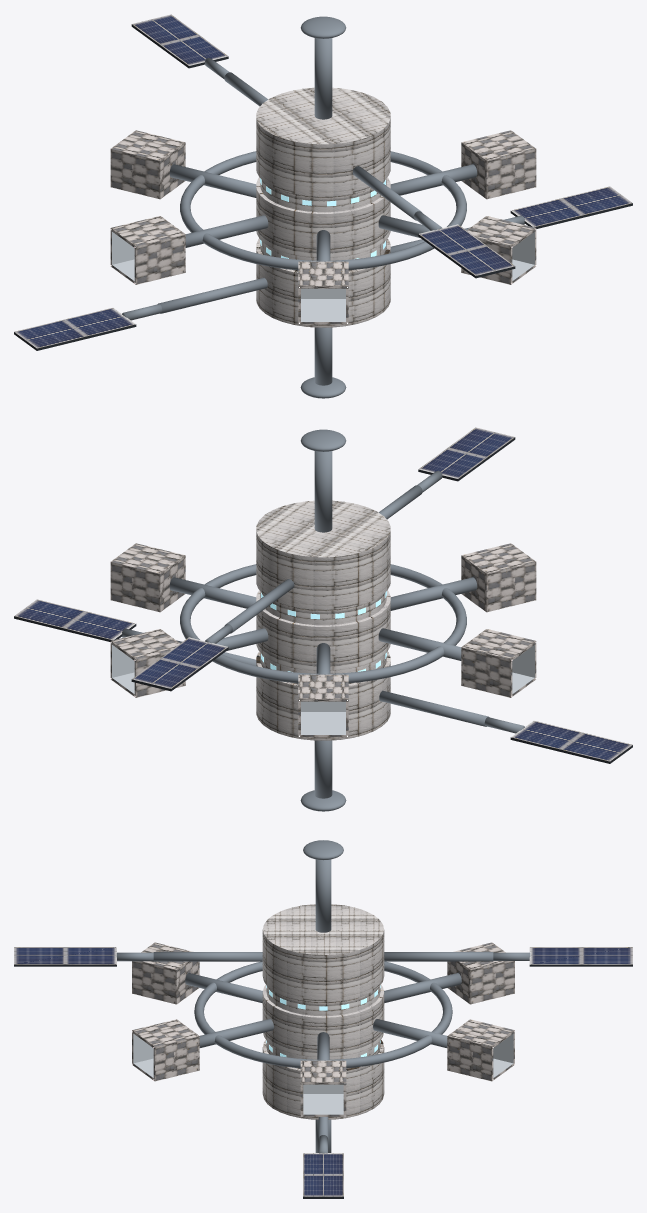
Rendered from station.glb.
3 views of the same model, one above another, from view 1: azimuth 30°, elevation 25°; view 2: azimuth 150°, elevation 25°; view 3: azimuth 270°, elevation 25° (orthographic). The views are drawn at different scales.
Parts seen in each view (by area): view 1: core_main, cargo_docks, mid_solar_panels, mid_ring, mid_dock_struts, mid_solar_booms, mid_comms_towers, mid_comms_dishes, mid_solar_arms; view 2: core_main, cargo_docks, mid_solar_panels, mid_ring, mid_dock_struts, mid_solar_booms, mid_comms_towers, mid_comms_dishes, mid_solar_arms; view 3: core_main, cargo_docks, mid_solar_panels, mid_dock_struts, mid_ring, mid_solar_booms, mid_comms_towers, mid_solar_arms, mid_comms_dishes.
Part boxes in pixels (x1,y1,x2,y2): core_main: [256, 87, 390, 327]; cargo_docks: [110, 130, 536, 324]; mid_solar_panels: [14, 14, 632, 350]; mid_ring: [180, 151, 466, 270]; mid_dock_struts: [169, 164, 477, 261]; mid_solar_booms: [158, 72, 470, 313]; mid_comms_towers: [314, 38, 332, 385]; mid_comms_dishes: [300, 16, 346, 398]; mid_solar_arms: [122, 58, 524, 320]; core_main: [256, 500, 390, 740]; cargo_docks: [110, 543, 536, 737]; mid_solar_panels: [14, 427, 632, 763]; mid_ring: [180, 564, 466, 683]; mid_dock_struts: [169, 577, 477, 674]; mid_solar_booms: [176, 485, 488, 726]; mid_comms_towers: [314, 451, 332, 798]; mid_comms_dishes: [300, 429, 346, 811]; mid_solar_arms: [122, 471, 524, 733]; core_main: [262, 904, 384, 1119]; cargo_docks: [132, 942, 514, 1116]; mid_solar_panels: [14, 947, 632, 1198]; mid_dock_struts: [185, 973, 461, 1060]; mid_ring: [194, 961, 452, 1068]; mid_solar_booms: [153, 952, 493, 1139]; mid_comms_towers: [315, 859, 331, 1152]; mid_solar_arms: [116, 952, 530, 1153]; mid_comms_dishes: [303, 840, 343, 860].
Bounding box in the file's own units: 10.2 × 6.06 × 10.2.
Materials: 9 (3 with a texture image).
